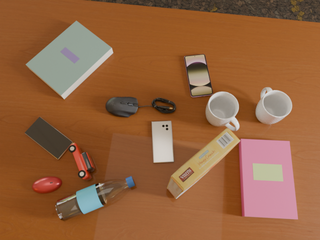book: (26, 21, 113, 99), (239, 139, 298, 219)
bottle: (56, 176, 135, 222)
box: (167, 128, 240, 199)
cup: (256, 87, 292, 124), (206, 92, 239, 131)
mouse: (106, 97, 140, 117), (32, 176, 62, 193)
phone: (25, 117, 73, 160), (184, 54, 213, 97), (152, 121, 174, 163)
toy_car: (69, 143, 95, 181)
